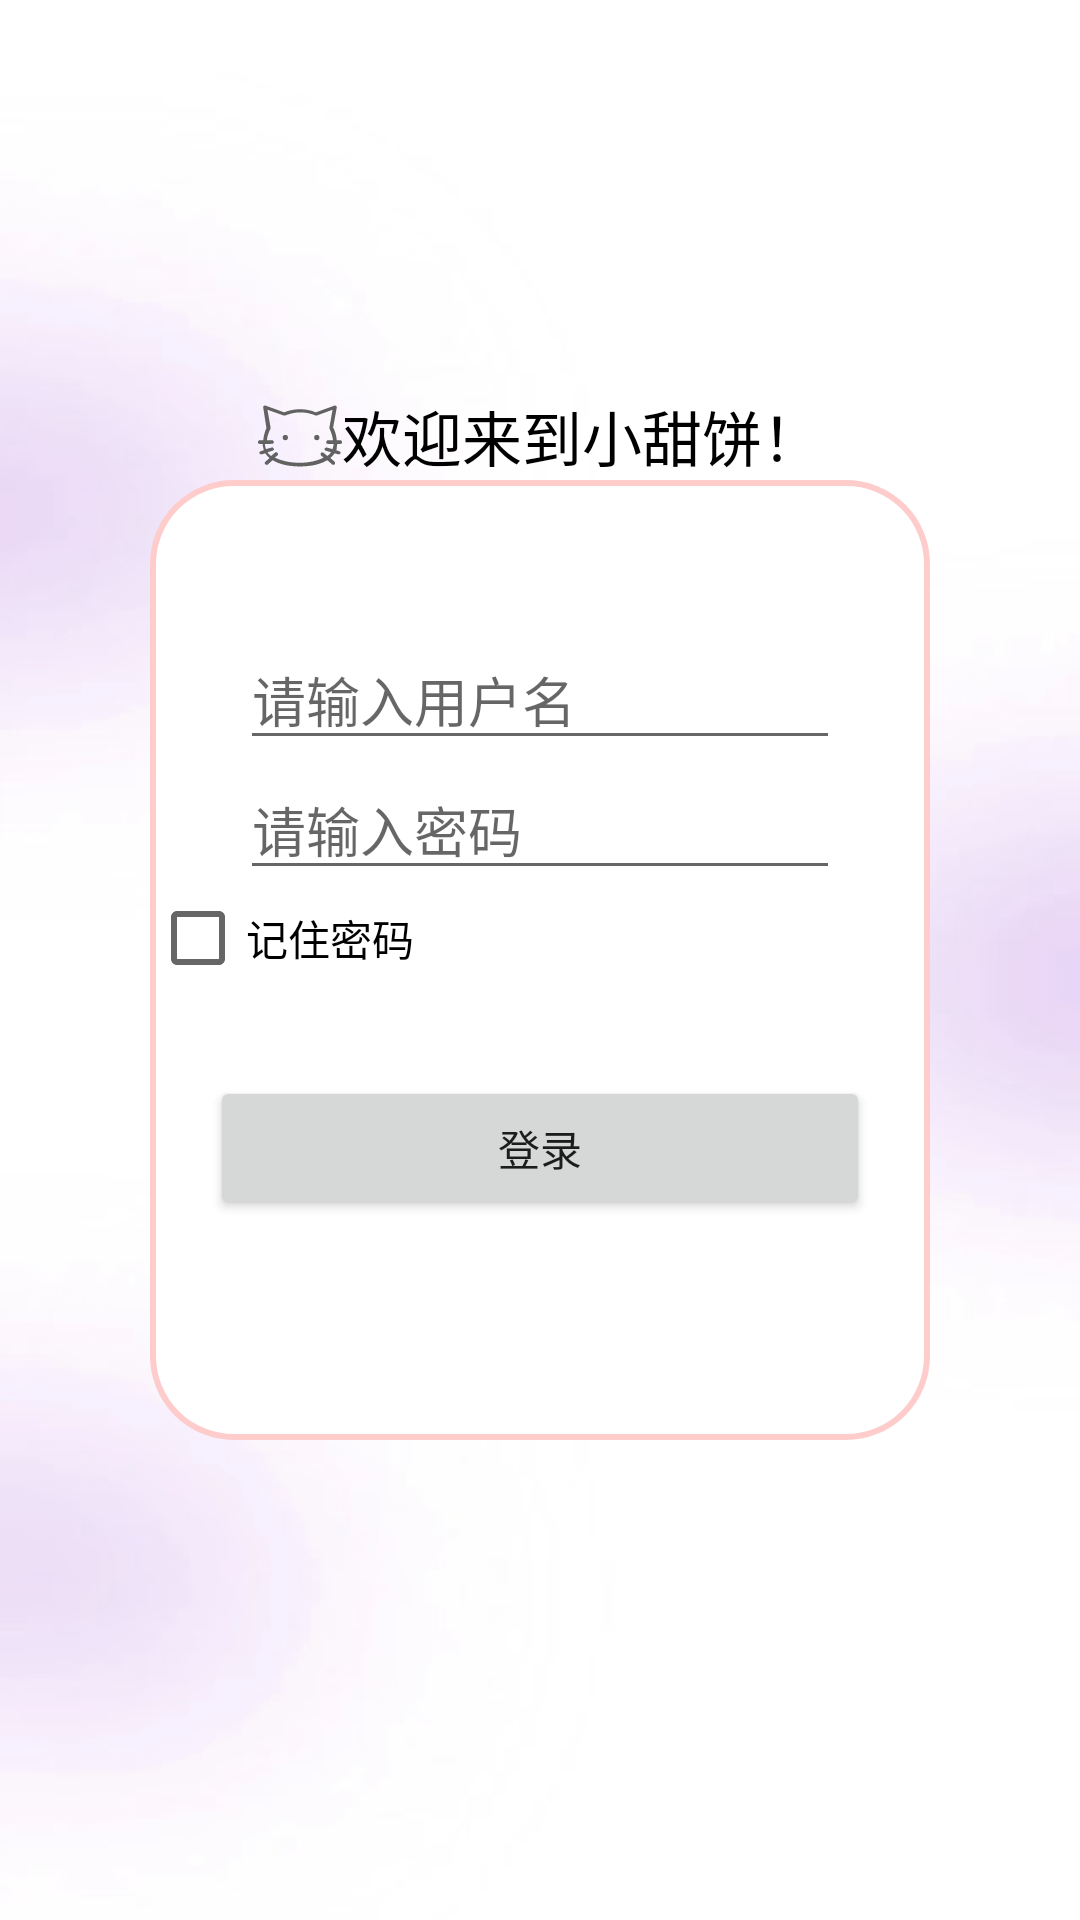

Point at icon controls on the screen. Image size 1080x1920, points as (x,y).
cat: (300,436)
